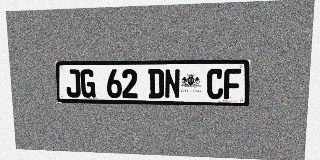2: (122, 69, 137, 98)
6: (106, 69, 122, 98)
C: (206, 69, 224, 99)
D: (148, 69, 164, 98)
F: (223, 68, 241, 99)
G: (80, 69, 95, 98)
J: (65, 69, 81, 98)
N: (164, 69, 180, 99)
